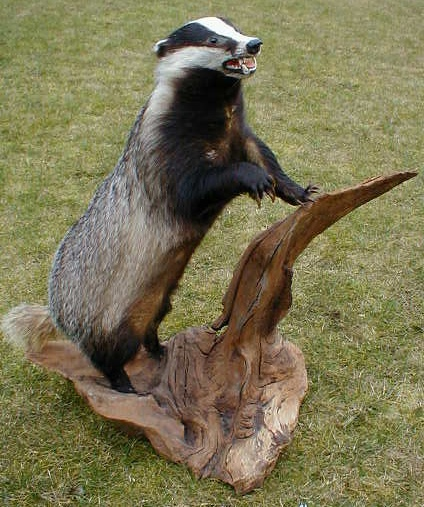badger: (51, 16, 319, 398)
